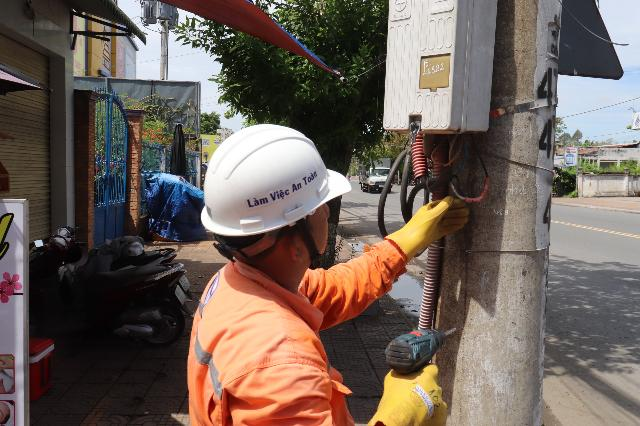gloves: (363, 352, 460, 426), (386, 188, 476, 252)
helmet: (194, 115, 354, 235)
